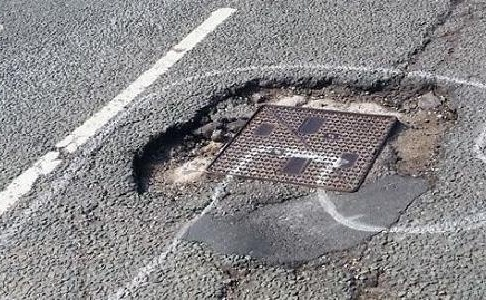pothole: (127, 72, 462, 198)
